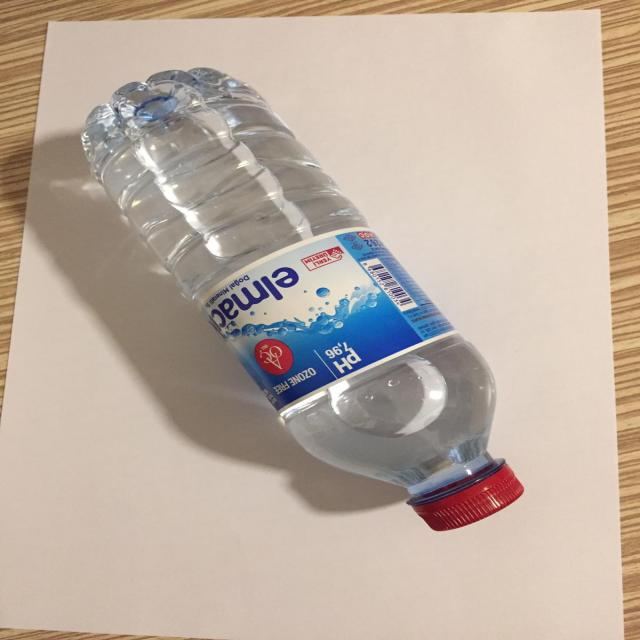bottle: (49, 47, 546, 524)
